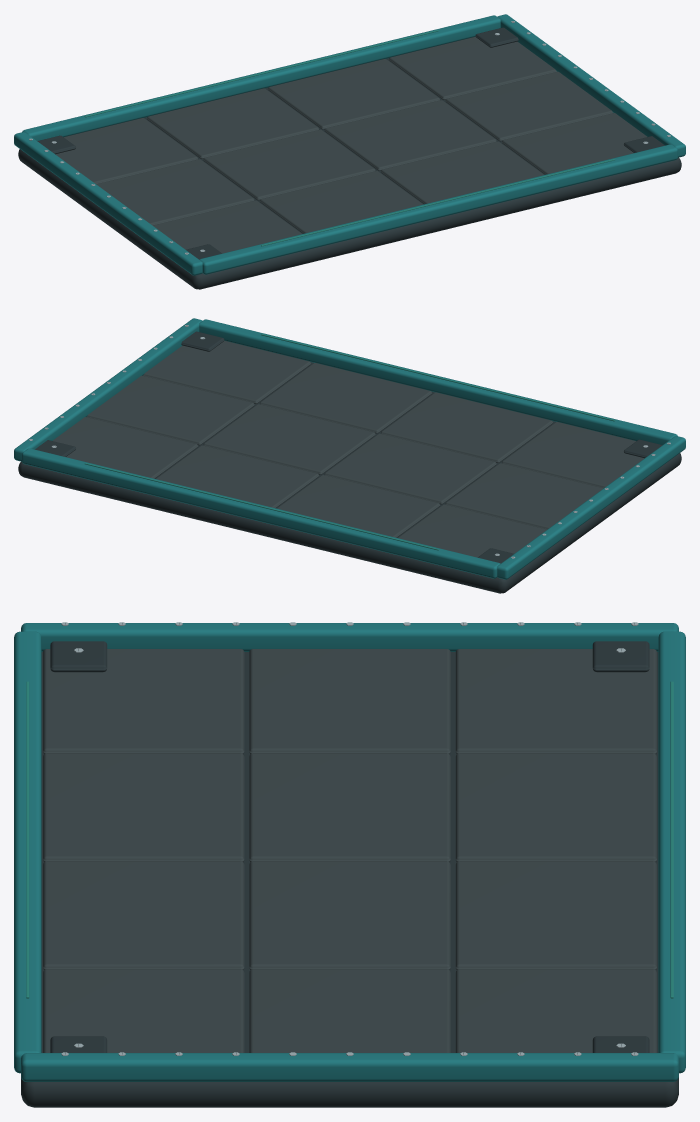
The model's file is SM_VDeck.fbx.
The picture shows the model from 3 angles, top to bottom: view 1: azimuth 30°, elevation 25°; view 2: azimuth 150°, elevation 25°; view 3: azimuth 270°, elevation 25°; orthographic projection. The views are drawn at different scales.
Parts seen in each view (by area): view 1: SM_VDeck; view 2: SM_VDeck; view 3: SM_VDeck.
Part boxes in pixels (bbox=[...]): SM_VDeck: bbox=[14, 14, 685, 289]; SM_VDeck: bbox=[14, 318, 685, 593]; SM_VDeck: bbox=[14, 622, 685, 1107].
Bounding box in the file's own units: 1062 × 684 × 62.59.
